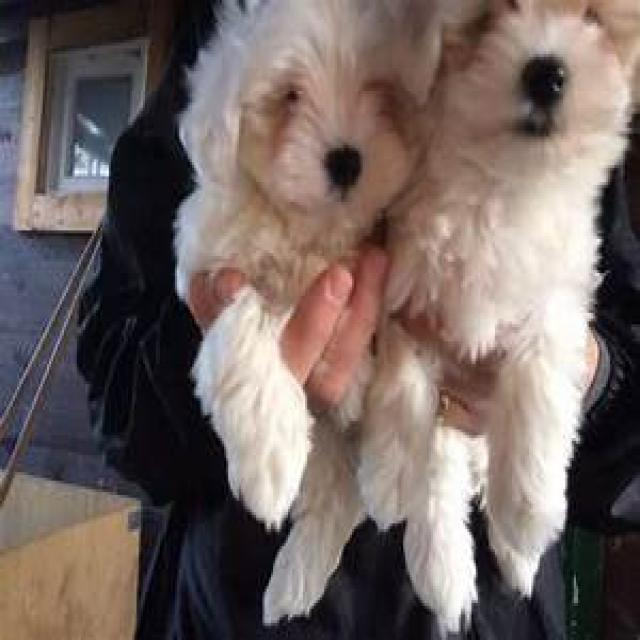dog: (365, 0, 640, 640), (175, 0, 446, 620)
